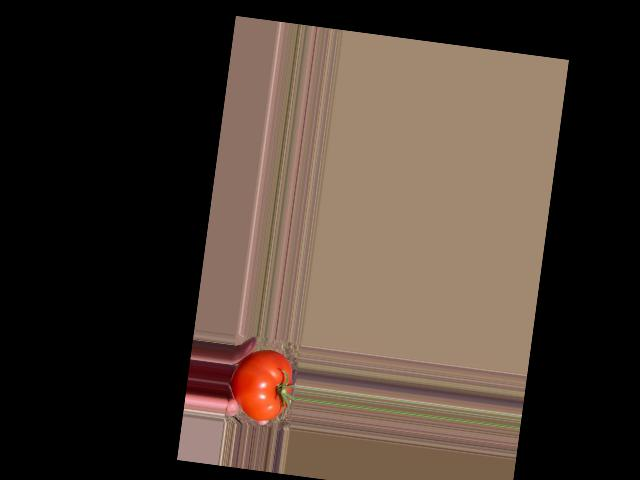tomato: (226, 347, 295, 424)
